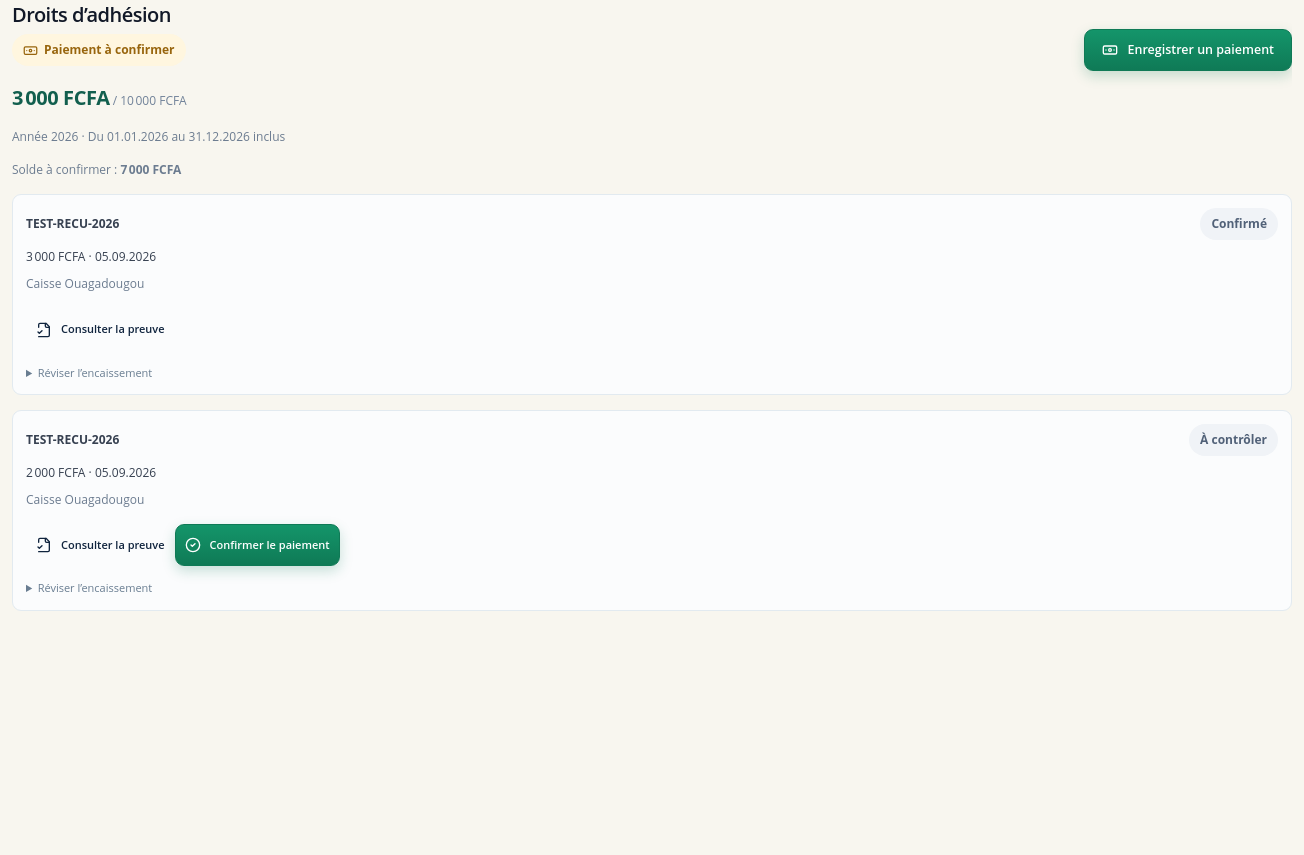
Configuration et paiement des droits d’affiliation › limite le montant au solde non réservé, sans compter l’attente comme un paiement confirmé
Expected: the text "Paiement à confirmer" is shown, [12,34,186,66]
Click the button "Enregistrer un paiement" at (1188, 50), box [1084,29,1292,71]
(page scrolled)
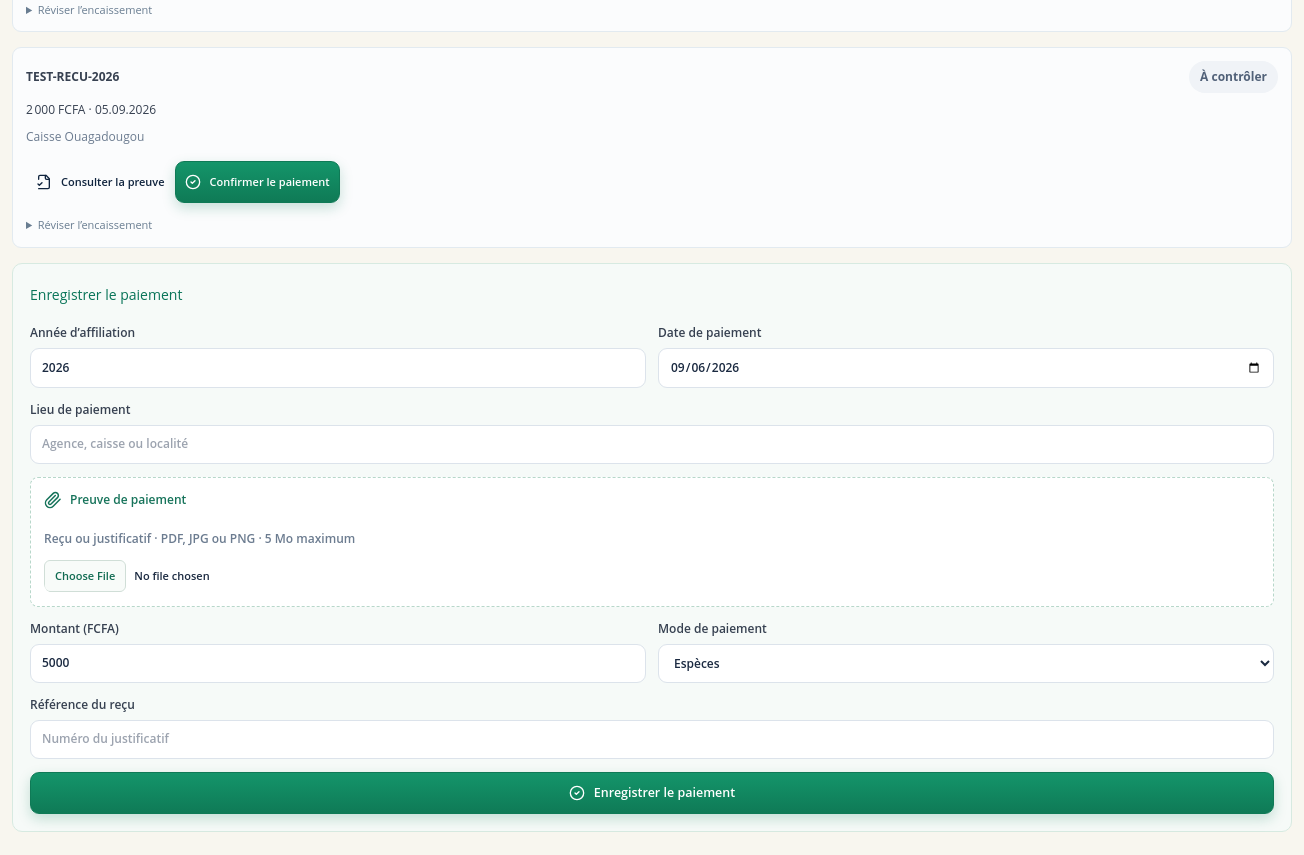
Expected: the number field labelled "Montant (FCFA)" holds "5000", [30,644,646,683]
